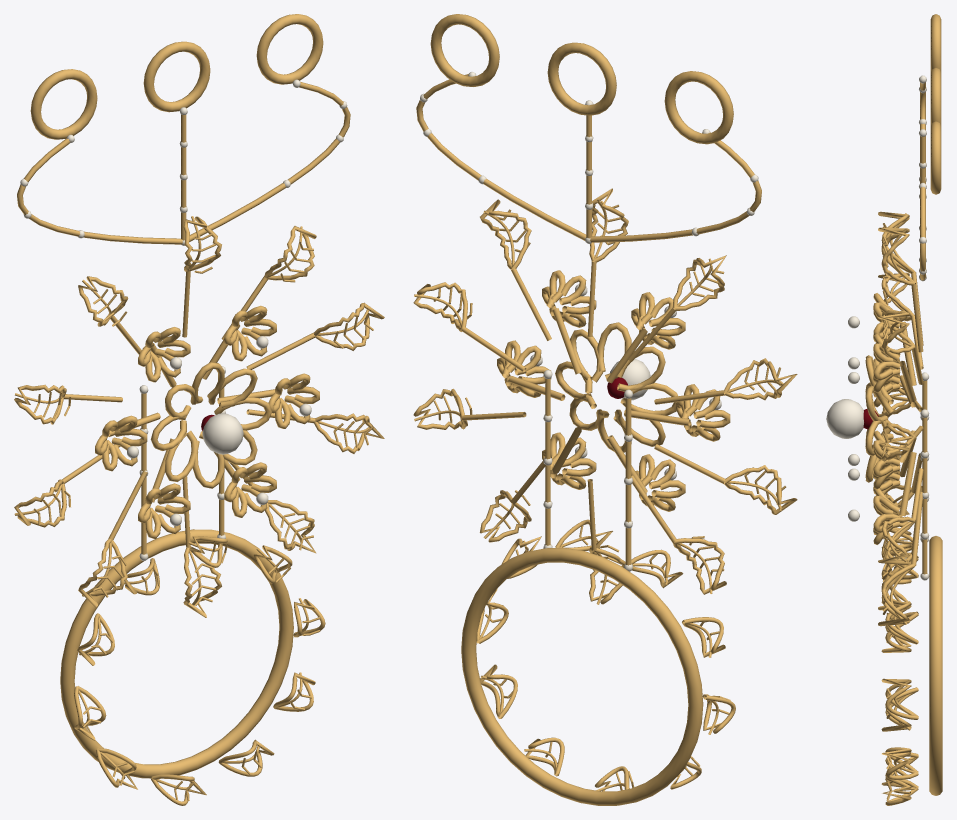
File: hathphool.glb
3 renders of one model, left to right at view 1: azimuth 30°, elevation 25°; view 2: azimuth 150°, elevation 25°; view 3: azimuth 270°, elevation 25°, orthographic. The views are drawn at different scales.
Parts seen in each view (by area): view 1: hathphool; view 2: hathphool; view 3: hathphool.
Boxes of the visible parts, x1=… form: hathphool: x1=14, y1=14, x2=384, y2=805; hathphool: x1=413, y1=14, x2=797, y2=805; hathphool: x1=826, y1=14, x2=942, y2=805.
Size of the model in its own units: 0.1076 by 0.2131 by 0.0312.
